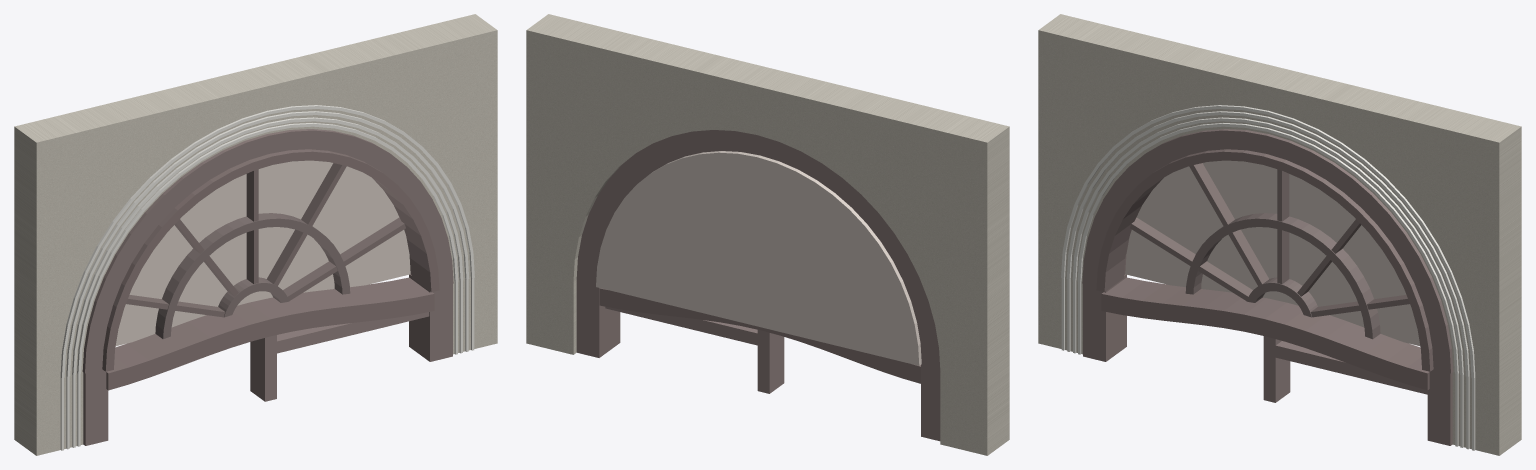
Rendered from kangping-191-side-door-fanlight-far.glb.
3 renders of one model, left to right at view 1: azimuth 30°, elevation 25°; view 2: azimuth 150°, elevation 25°; view 3: azimuth 330°, elevation 25°, orthographic.
Parts seen in each view (by area): view 1: 康平路191号边门的双道弧梃与五辐扇窗; view 2: 康平路191号边门的双道弧梃与五辐扇窗; view 3: 康平路191号边门的双道弧梃与五辐扇窗.
Boxes of the visible parts, x1,y1,x2,y2 form: 康平路191号边门的双道弧梃与五辐扇窗: (14,14,497,455); 康平路191号边门的双道弧梃与五辐扇窗: (526,14,1009,455); 康平路191号边门的双道弧梃与五辐扇窗: (1038,14,1521,455).
Bounding box in the file's own units: 2.04 × 1.32 × 0.212.
8 materials, 1 textured.
